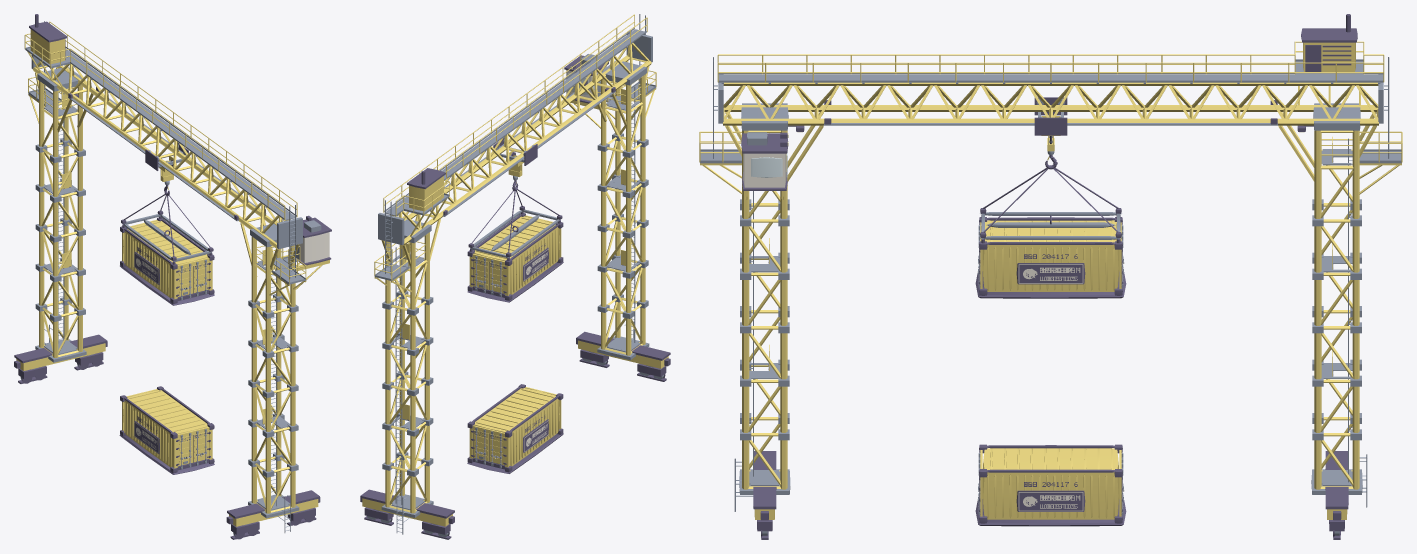
The model's file is gantry.glb.
3 views of the same model, side by side, from view 1: azimuth 30°, elevation 25°; view 2: azimuth 150°, elevation 25°; view 3: azimuth 270°, elevation 25° (orthographic). The views are drawn at different scales.
Visible parts, largest first — view 1: gantry_legChordsP, gantry_legChordsN, gantry_girderLattice, gantry_box_box, gantry_legBracingN, gantry_legBracingP, gantry_walkway, gantry_walkRail, gantry_girderChords, gantry_cargo_box, gantry_spliceP, gantry_spliceN (+20 smaller); view 2: gantry_legChordsP, gantry_legChordsN, gantry_girderLattice, gantry_legBracingP, gantry_box_box, gantry_legBracingN, gantry_walkRail, gantry_walkway, gantry_girderChords, gantry_cargo_box, gantry_spliceP, gantry_spliceN (+21 smaller); view 3: gantry_girderChords, gantry_box_box, gantry_girderLattice, gantry_cargo_box, gantry_walkRail, gantry_walkway, gantry_legChordsN, gantry_legChordsP, gantry_legBracingN, gantry_walkToe, gantry_legBracingP, gantry_decksN (+20 smaller).
Part boxes in pixels (x1,y1,x2,y2): gantry_legChordsP: (251, 236, 295, 513); gantry_legChordsN: (39, 81, 82, 357); gantry_girderLattice: (35, 62, 284, 233); gantry_box_box: (123, 390, 207, 467); gantry_legBracingN: (41, 82, 78, 356); gantry_legBracingP: (254, 238, 291, 512); gantry_walkway: (65, 48, 296, 220); gantry_walkRail: (24, 21, 297, 220); gantry_girderChords: (32, 65, 298, 249); gantry_cargo_box: (123, 221, 207, 297); gantry_spliceP: (248, 294, 298, 477); gantry_spliceN: (35, 138, 85, 321); gantry_legChordsP: (601, 74, 645, 355); gantry_legChordsN: (385, 232, 429, 513); gantry_girderLattice: (396, 43, 649, 229); gantry_legBracingP: (605, 76, 642, 354); gantry_box_box: (474, 388, 559, 466); gantry_legBracingN: (389, 234, 427, 512); gantry_walkRail: (383, 14, 647, 215); gantry_walkway: (384, 29, 644, 215); gantry_girderChords: (381, 39, 651, 245); gantry_cargo_box: (474, 216, 559, 294); gantry_spliceP: (597, 133, 648, 318); gantry_spliceN: (382, 291, 433, 476); gantry_girderChords: (723, 82, 1378, 125); gantry_box_box: (982, 448, 1119, 519); gantry_girderLattice: (723, 85, 1378, 119); gantry_cargo_box: (982, 220, 1119, 291); gantry_walkRail: (717, 41, 1384, 82); gantry_walkway: (718, 74, 1383, 82); gantry_legChordsN: (1314, 130, 1359, 489); gantry_legChordsP: (742, 130, 787, 489); gantry_legBracingN: (1320, 130, 1353, 488); gantry_walkToe: (718, 59, 1383, 82); gantry_legBracingP: (748, 130, 781, 488); gantry_decksN: (1321, 149, 1401, 485).
Bounding box in the file's own units: 7.77 × 28.11 × 36.87.
